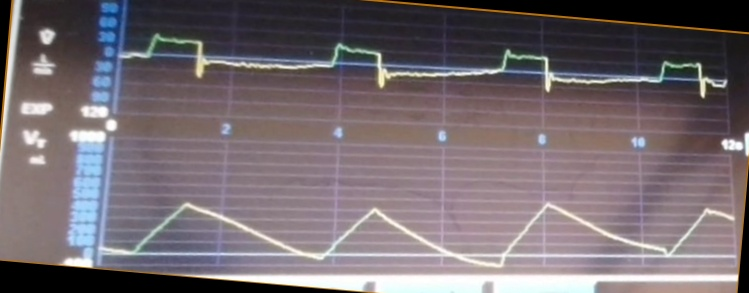Premature_cycling Flow: (125, 29, 725, 121)
Premature_cycling Volume: (107, 192, 734, 268)
